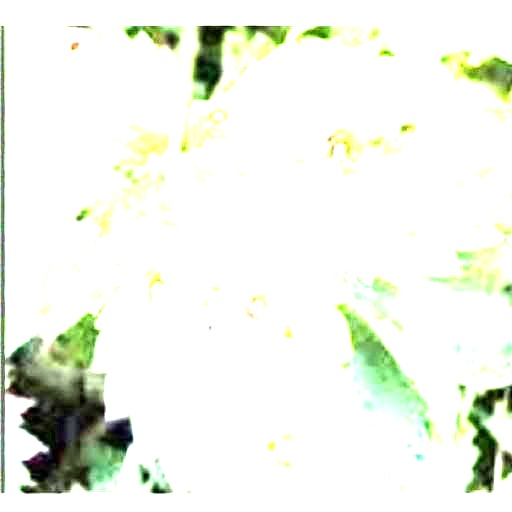Leaf Spot: (91, 155, 354, 496), (181, 37, 511, 292), (4, 25, 177, 358)
